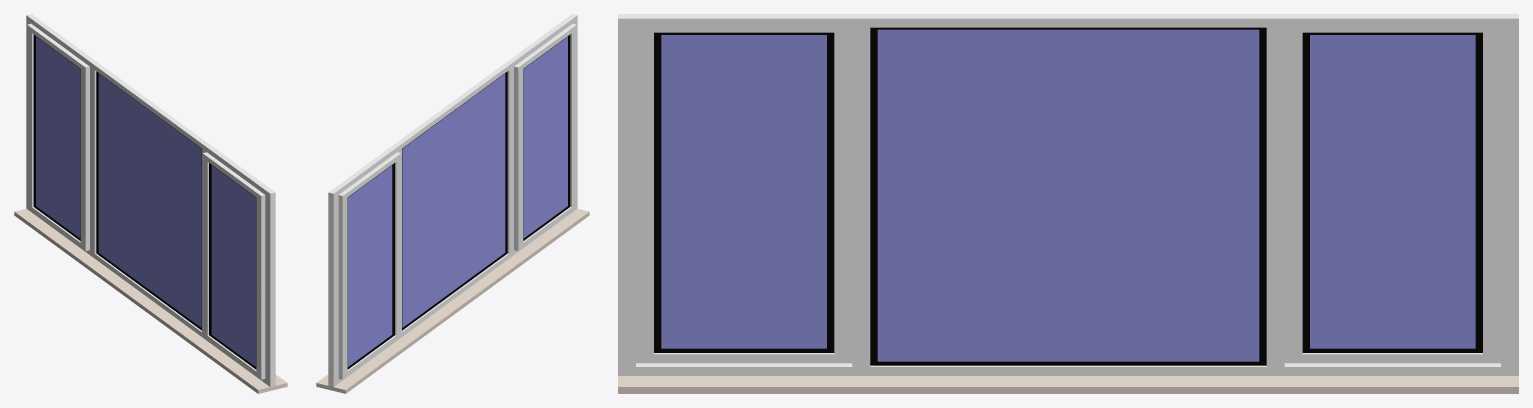
The model's file is Ventana.fbx.
3 renders of one model, left to right at view 1: azimuth 30°, elevation 25°; view 2: azimuth 150°, elevation 25°; view 3: azimuth 270°, elevation 25°, orthographic. The views are drawn at different scales.
Parts seen in each view (by area): view 1: Window; view 2: Window; view 3: Window.
Boxes of the visible parts, left/top/right/bottom form: Window: left=14, top=14, right=287, bottom=393; Window: left=316, top=14, right=589, bottom=393; Window: left=618, top=14, right=1518, bottom=393.
Size of the model in its own units: 28 by 179 by 401.
